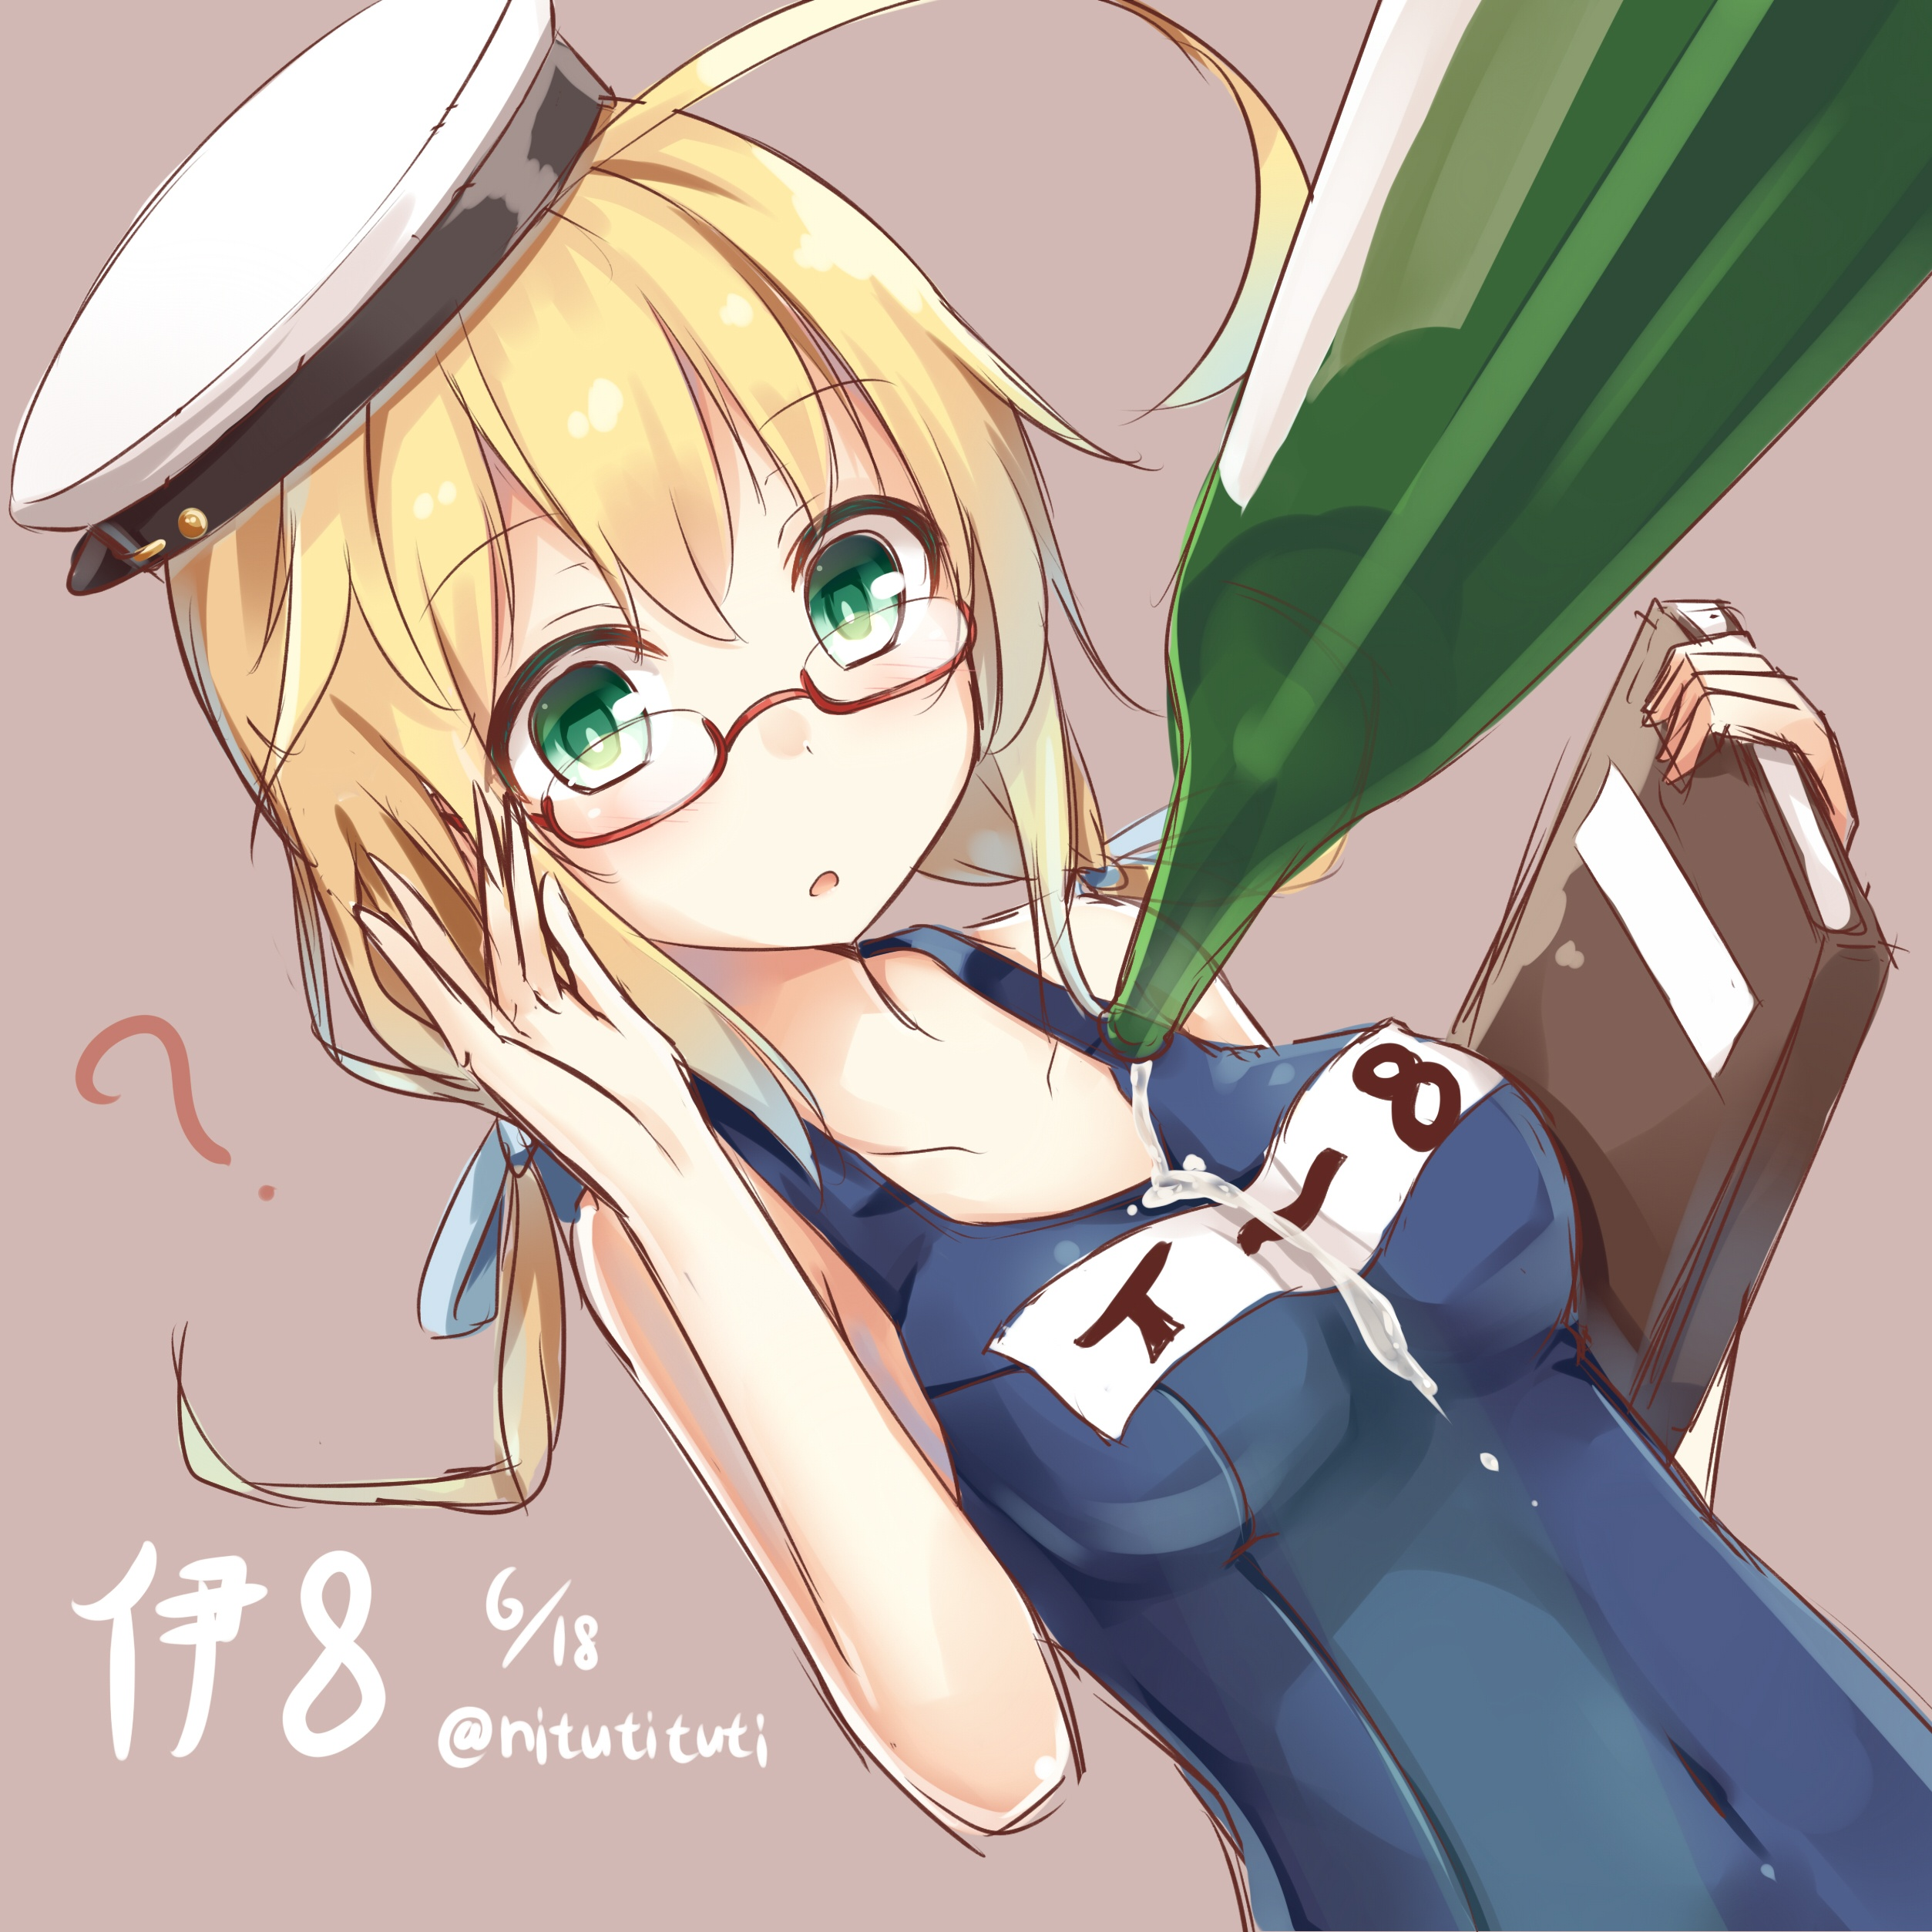纸片人正脸: (200, 106, 1043, 976)
